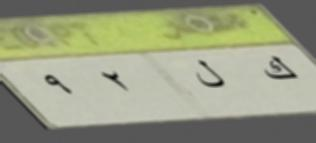2: (98, 63, 137, 96)
9: (41, 70, 74, 98)
kaaf: (261, 52, 301, 87)
laam: (195, 54, 227, 95)
